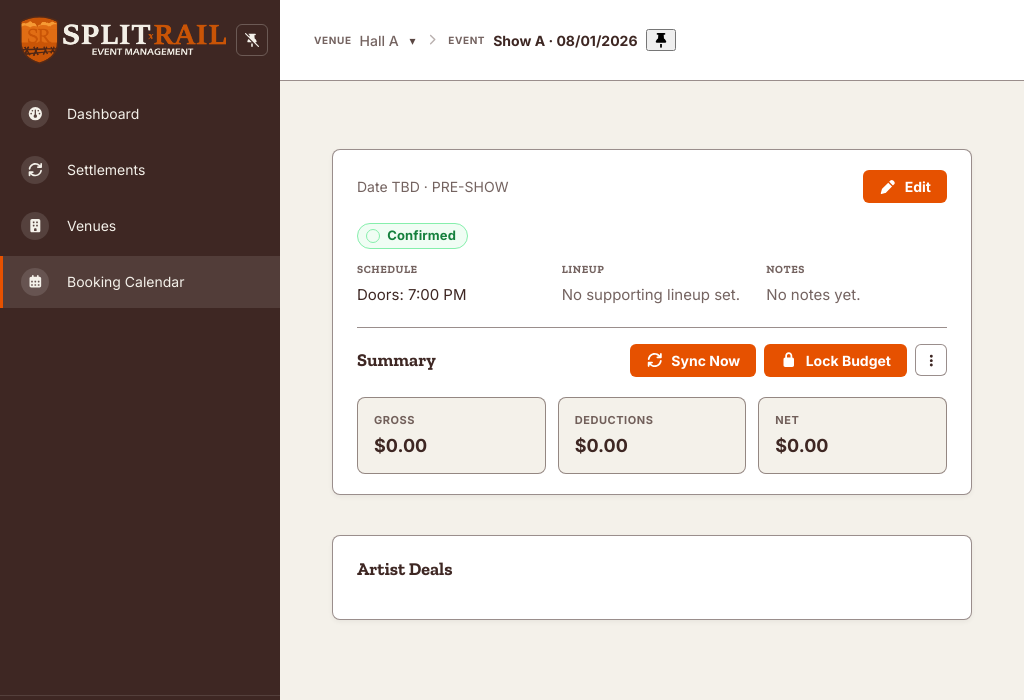
EventWorkspacePage › opens the workspace edit form from the show-details Edit action
Click the button with test id "event-details-edit" at {"x": 905, "y": 186}, box [863,170,947,203]
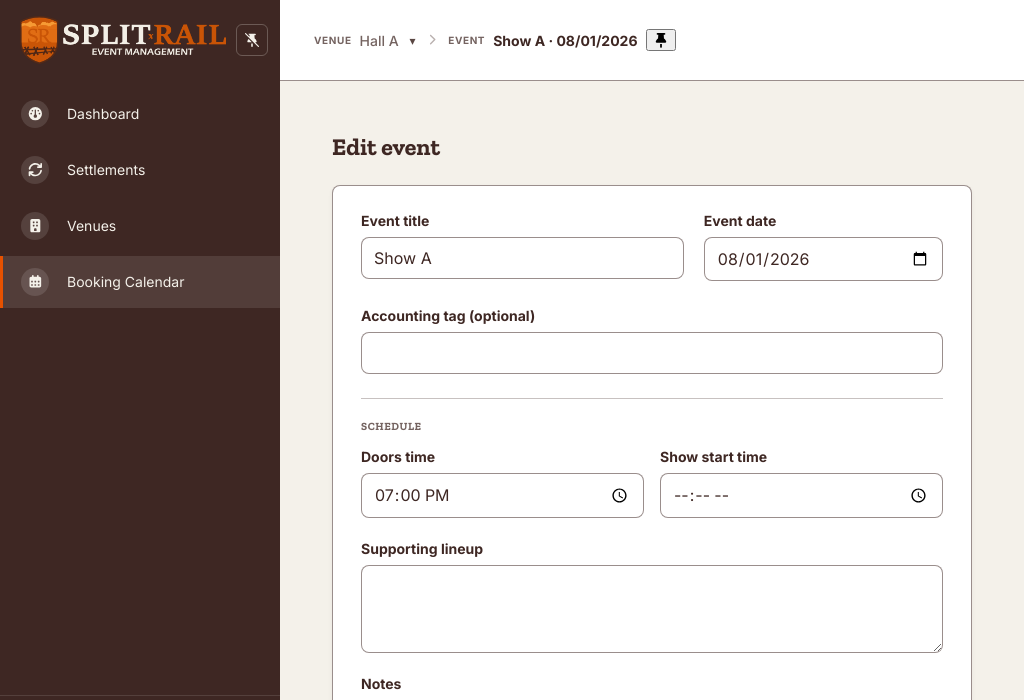
Expected: the time field labelled "Doors time" is shown, [361,473,644,518]
Expected: the time field labelled "Show start time" is shown, [660,473,943,518]
Expected: the element with test id "event-ledger-page" is gone
